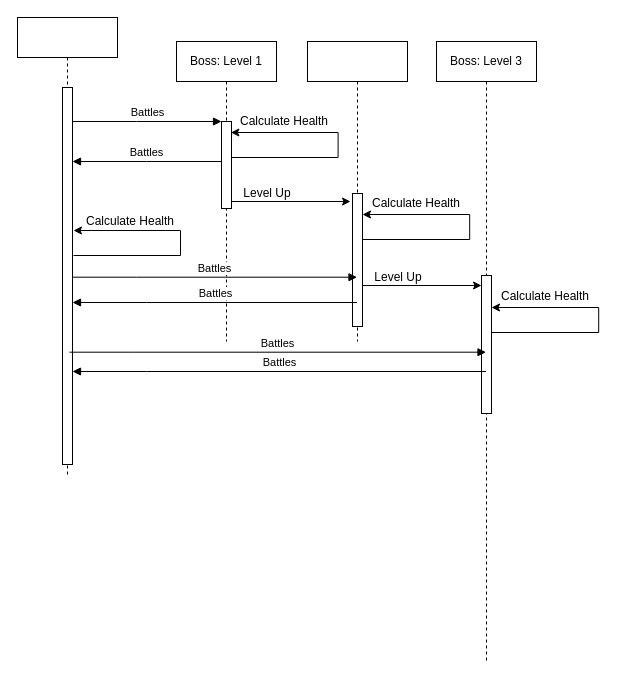
This 625x681 diagram has some shape labels left out. Here are the shapes that lost their labels. From the top down, the box of each, then its label:
(306, 40, 408, 342): Boss: Level 2
(16, 16, 118, 474): Player
